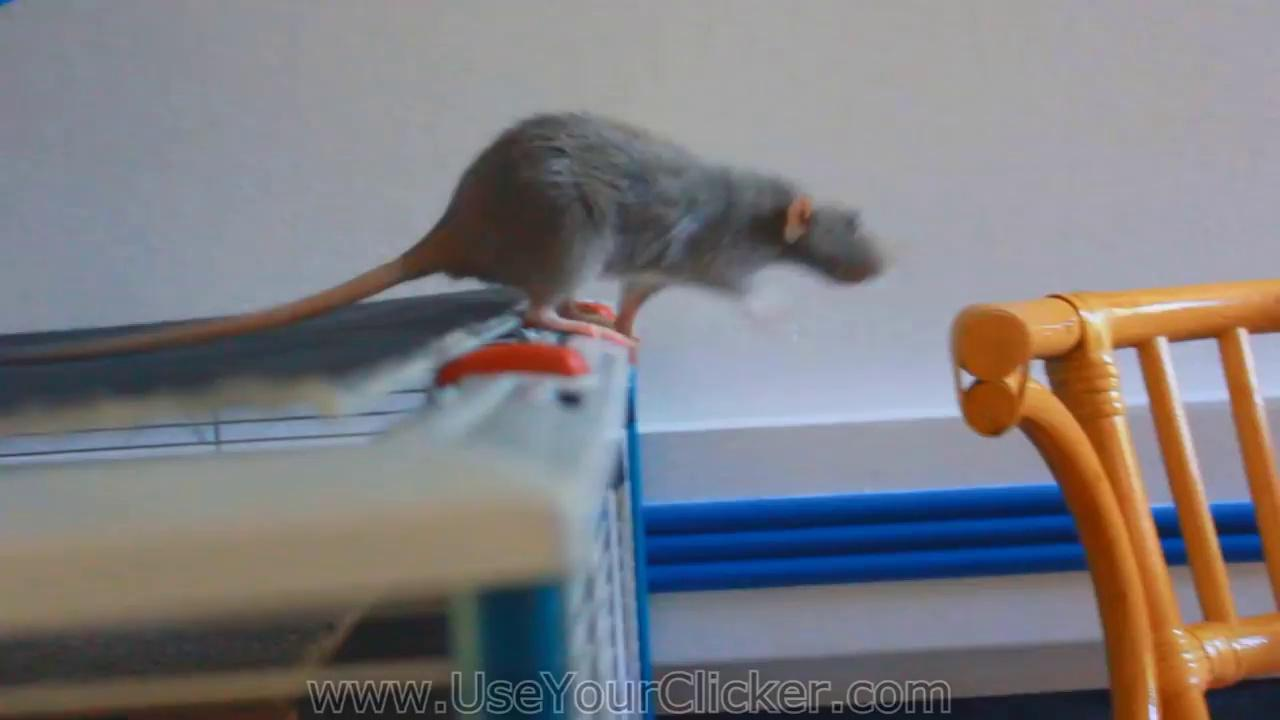rat: (0, 113, 882, 365)
